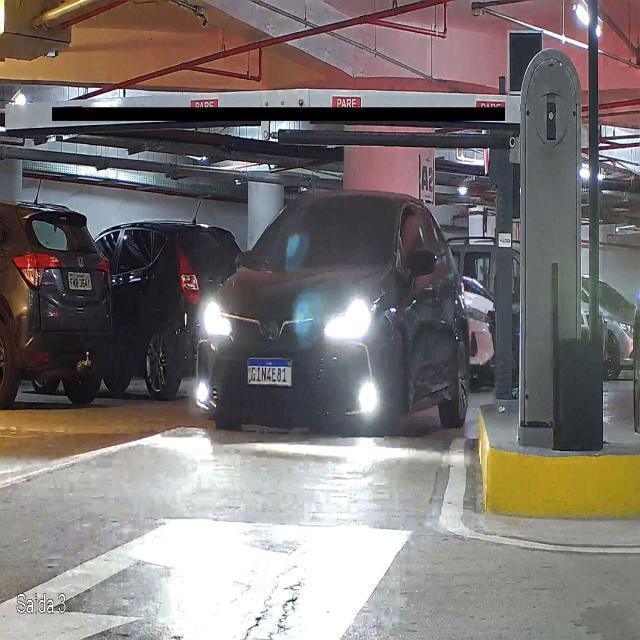mercosul_plate: (245, 356, 295, 388)
